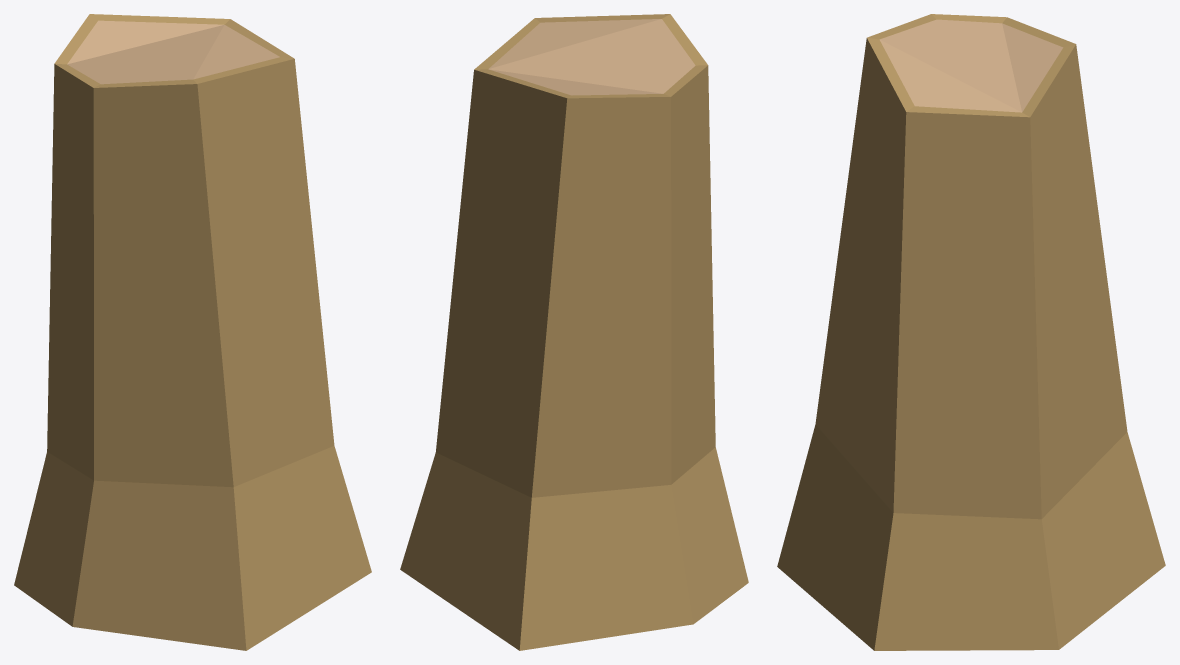
Rendered from Oak_Stump_01.fbx.
3 views of the same model, side by side, from view 1: azimuth 30°, elevation 25°; view 2: azimuth 150°, elevation 25°; view 3: azimuth 270°, elevation 25° (orthographic).
Parts seen in each view (by area): view 1: Oak_Stump_01; view 2: Oak_Stump_01; view 3: Oak_Stump_01.
Part boxes in pixels (x1,y1,x2,y2): Oak_Stump_01: [14, 14, 371, 650]; Oak_Stump_01: [400, 14, 748, 650]; Oak_Stump_01: [777, 14, 1165, 650].
Bounding box in the file's own units: 63.36 × 115 × 76.71.
